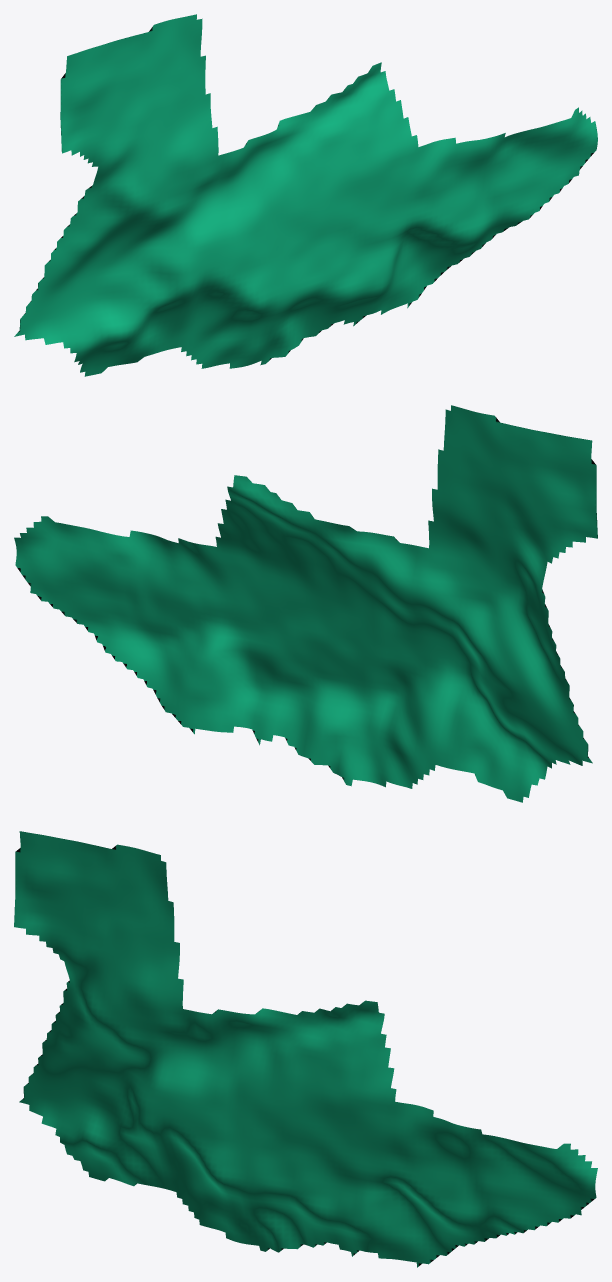
The model's file is tirumala_terrain_risk_zones.glb.
The picture shows the model from 3 angles, top to bottom: view 1: azimuth 30°, elevation 25°; view 2: azimuth 150°, elevation 25°; view 3: azimuth 330°, elevation 25°; orthographic projection.
Visible parts, largest first — view 1: Tirumala_Terrain_Mesh; view 2: Tirumala_Terrain_Mesh; view 3: Tirumala_Terrain_Mesh.
Part boxes in pixels (x1,y1,x2,y2): Tirumala_Terrain_Mesh: [14, 14, 597, 376]; Tirumala_Terrain_Mesh: [14, 405, 597, 802]; Tirumala_Terrain_Mesh: [14, 831, 597, 1267].
Bounding box in the file's own units: 8560 × 5440 × 719.
Materials: 1 (1 with a texture image).
